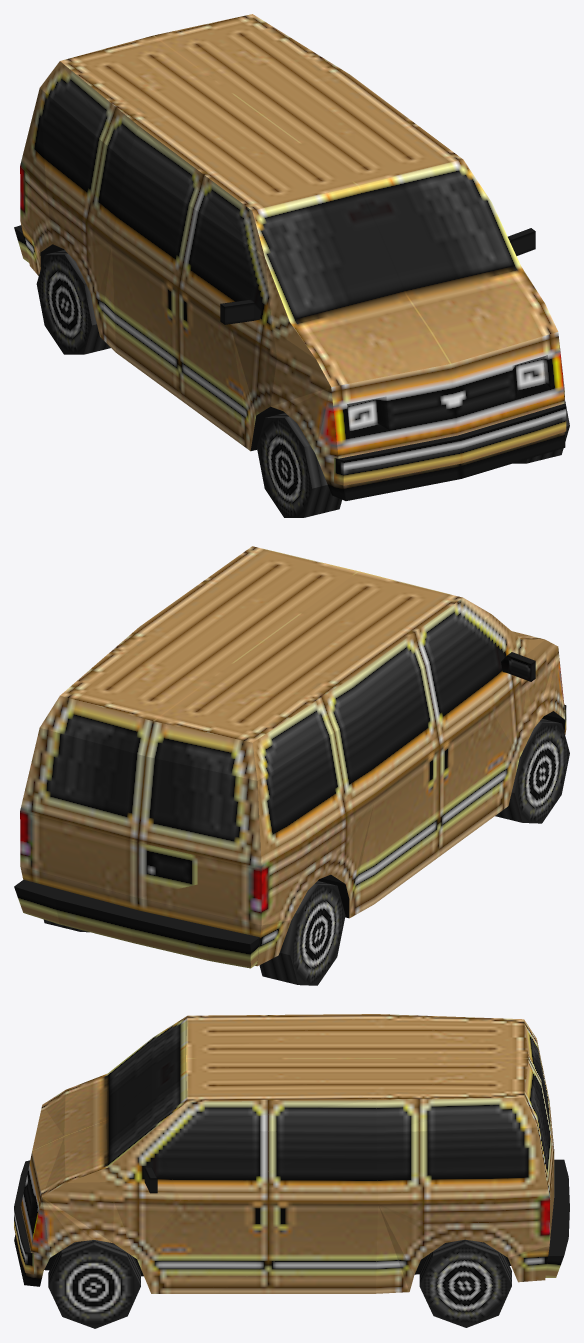
The model's file is Auto5naranja.fbx.
3 views of the same model, one above another, from view 1: azimuth 30°, elevation 25°; view 2: azimuth 150°, elevation 25°; view 3: azimuth 270°, elevation 25° (orthographic). The views are drawn at different scales.
Visible parts, largest first — view 1: Car4; view 2: Car4; view 3: Car4.
Part boxes in pixels (x1,y1,x2,y2): Car4: (14, 14, 569, 517); Car4: (14, 546, 569, 985); Car4: (14, 1014, 569, 1328).
Bounding box in the file's own units: 340 × 274 × 630.
